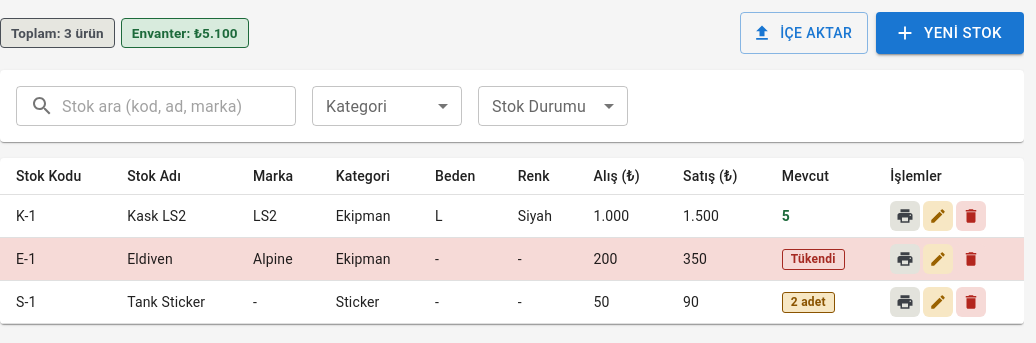
it: Aksesuar Stok: süzgeçler › stok durumu: "Stokta Var" tükenenleri, "Stok Biten" kalanları gizler; "Tümü" hepsini döndürür
Check: the text "Kask LS2" is shown, box [111,195,237,238]
Click the dropdown named "Stok Durumu" next to "Stok Durumu".
click(553, 106)  # box [478,86,628,126]
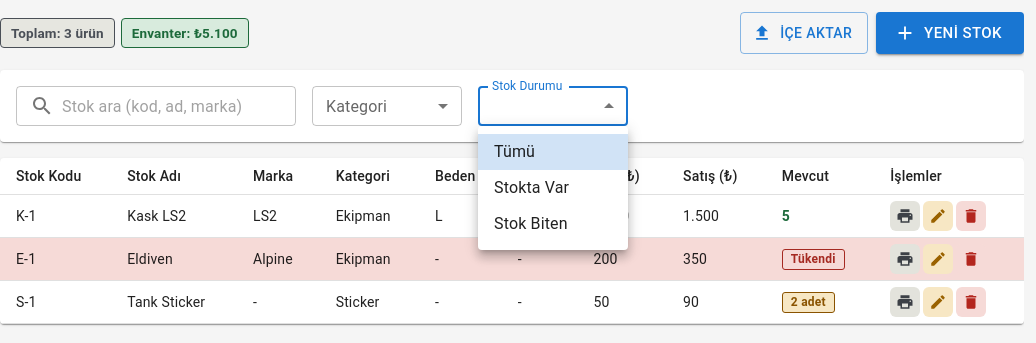
Click the option "Stokta Var".
click(532, 188)  # box [494,178,569,197]
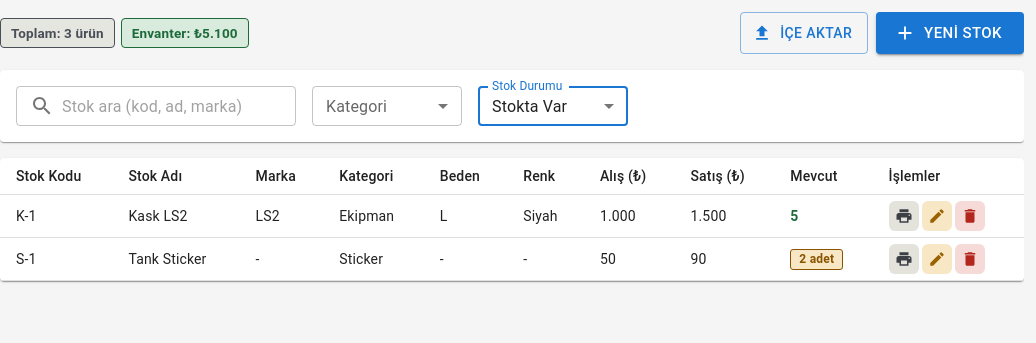
Check: the text "Kask LS2" is shown, box [112,195,240,238]
Check: the text "Eldiven" is gone
Click the dropdown named "Stok Durumu".
click(530, 106)  # box [492,97,567,116]
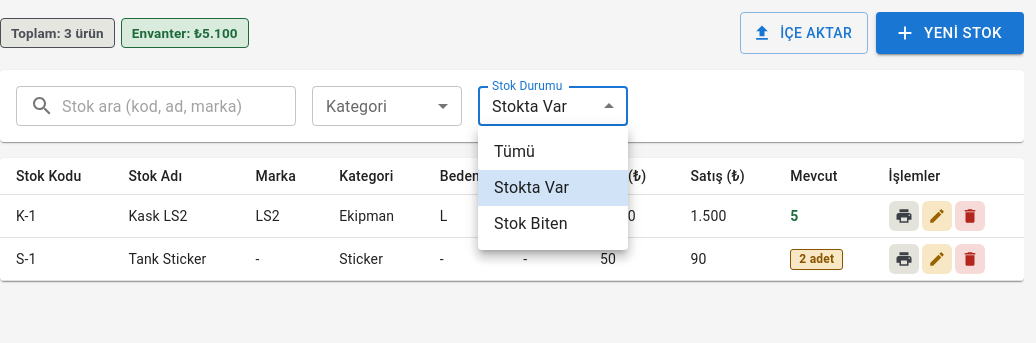
Click the option "Stok Biten".
click(531, 224)  # box [494,214,568,233]
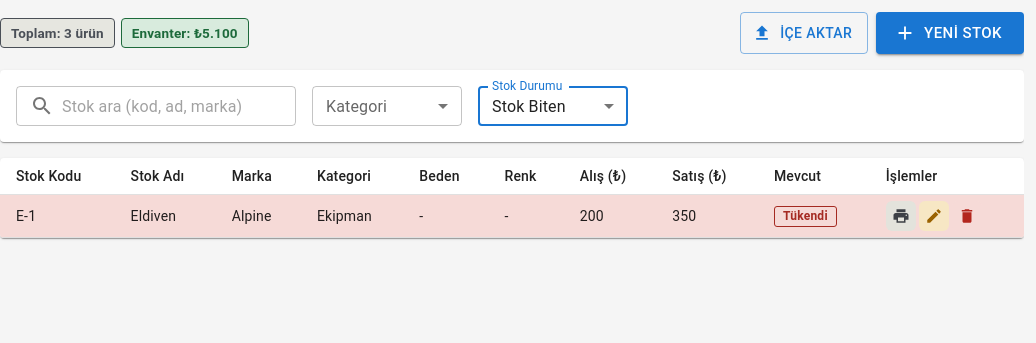
Check: the text "Eldiven" is shown, box [115,195,216,238]
Check: the text "Kask LS2" is gone
Click the dropdown named "Stok Durumu".
click(529, 106)  # box [492,97,566,116]
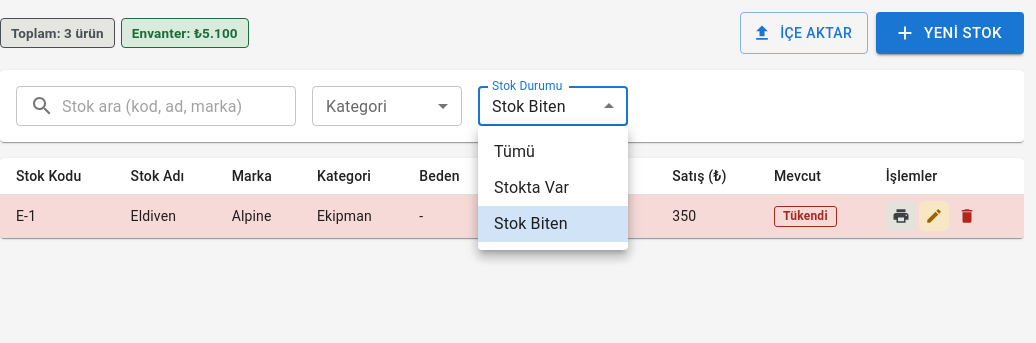
Click the option "Tümü".
click(515, 152)  # box [494,142,535,161]
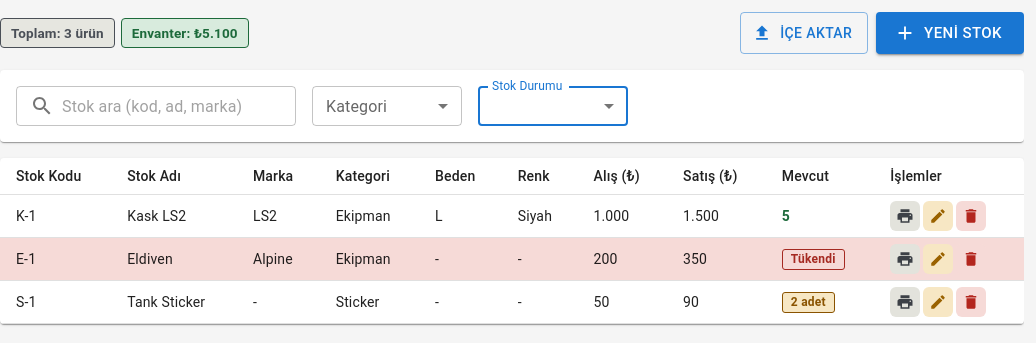
Check: the number of rows is 4, box [0,158,1024,195]; [0,195,1024,238]; [0,238,1024,281]; [0,281,1024,324]
